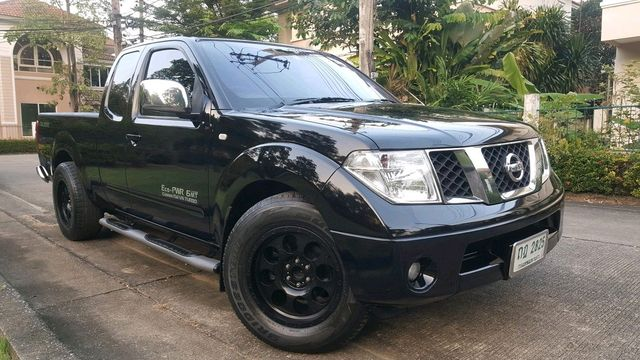pickup: (33, 34, 566, 352)
